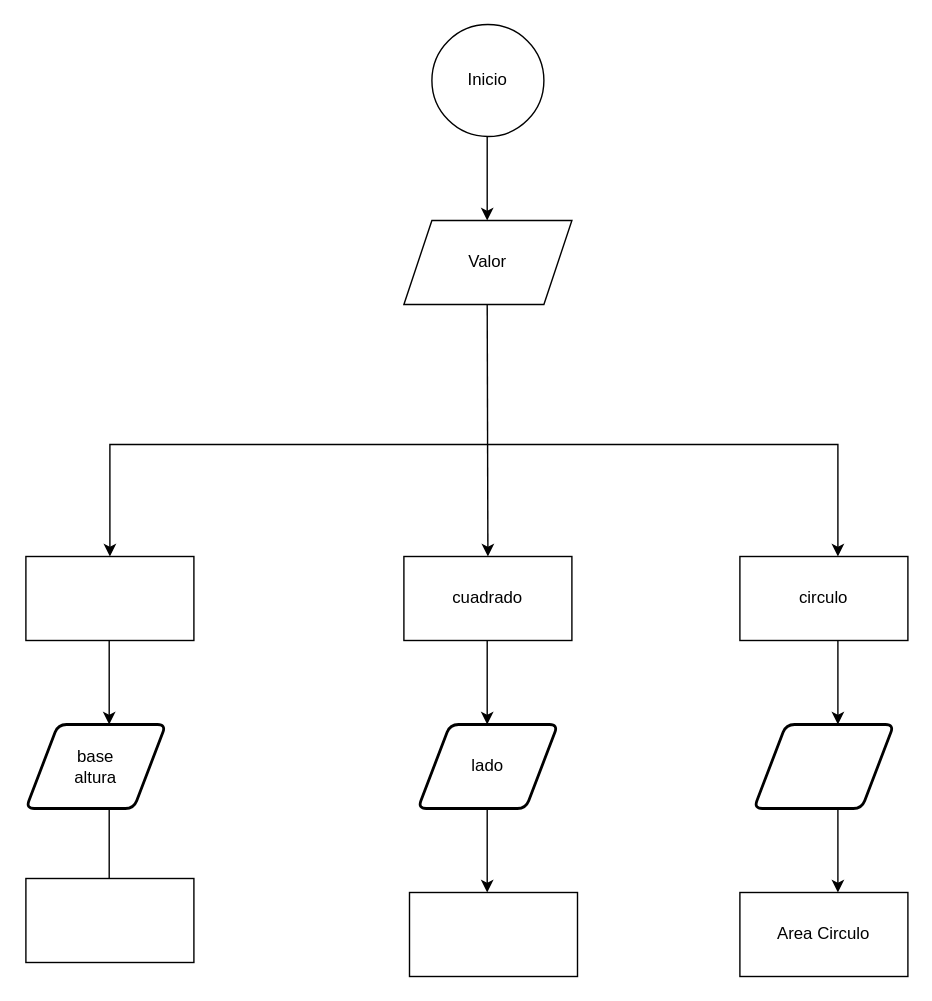
Some shapes in this 932 by 1001 pixel diagram are drawn without their labels. The shapes that lost their labels are listed below. From the top down, each one's centre as x and y in pixels, then its label:
the point at 109,597: triangulo
the point at 823,765: radio
the point at 109,919: Area trianglo
the point at 493,933: Area cuadrado
